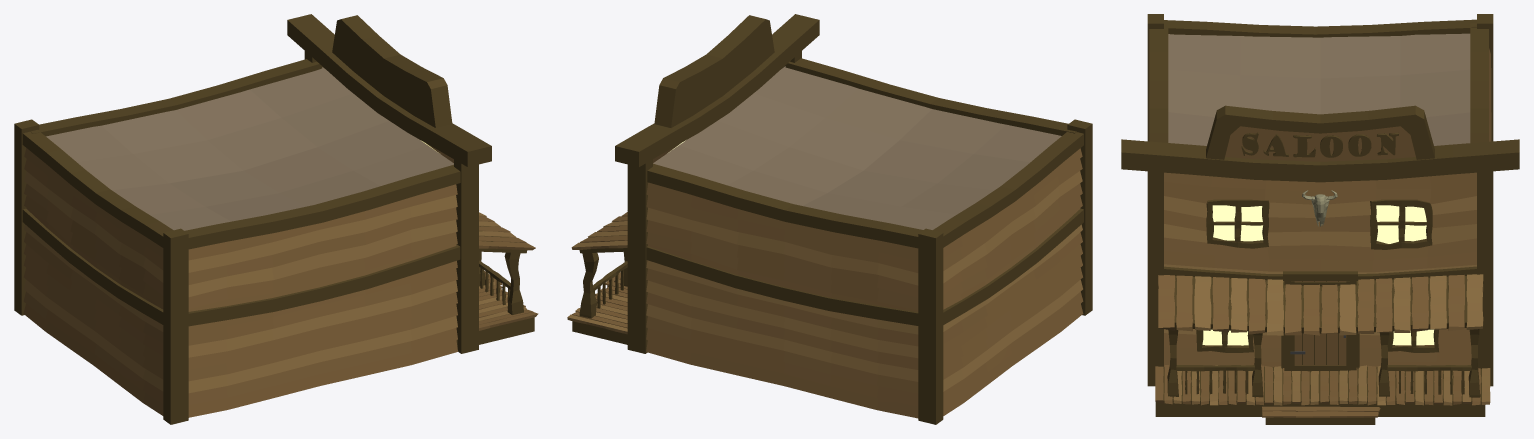
File: bank.glb
3 renders of one model, left to right at view 1: azimuth 30°, elevation 25°; view 2: azimuth 150°, elevation 25°; view 3: azimuth 270°, elevation 25°, orthographic. The views are drawn at different scales.
Visible parts, largest first — view 1: Cube.004; view 2: Cube.004; view 3: Cube.004, DoorPanel, DoorFrame.
Boxes of the visible parts, x1,y1,x2,y2 form: Cube.004: (14,14,538,424); Cube.004: (567,14,1092,424); Cube.004: (1121,14,1519,424); DoorPanel: (1290,281,1350,371); DoorFrame: (1283,271,1357,370).
Size of the model in its own units: 11.88 by 7.3 by 9.68.
